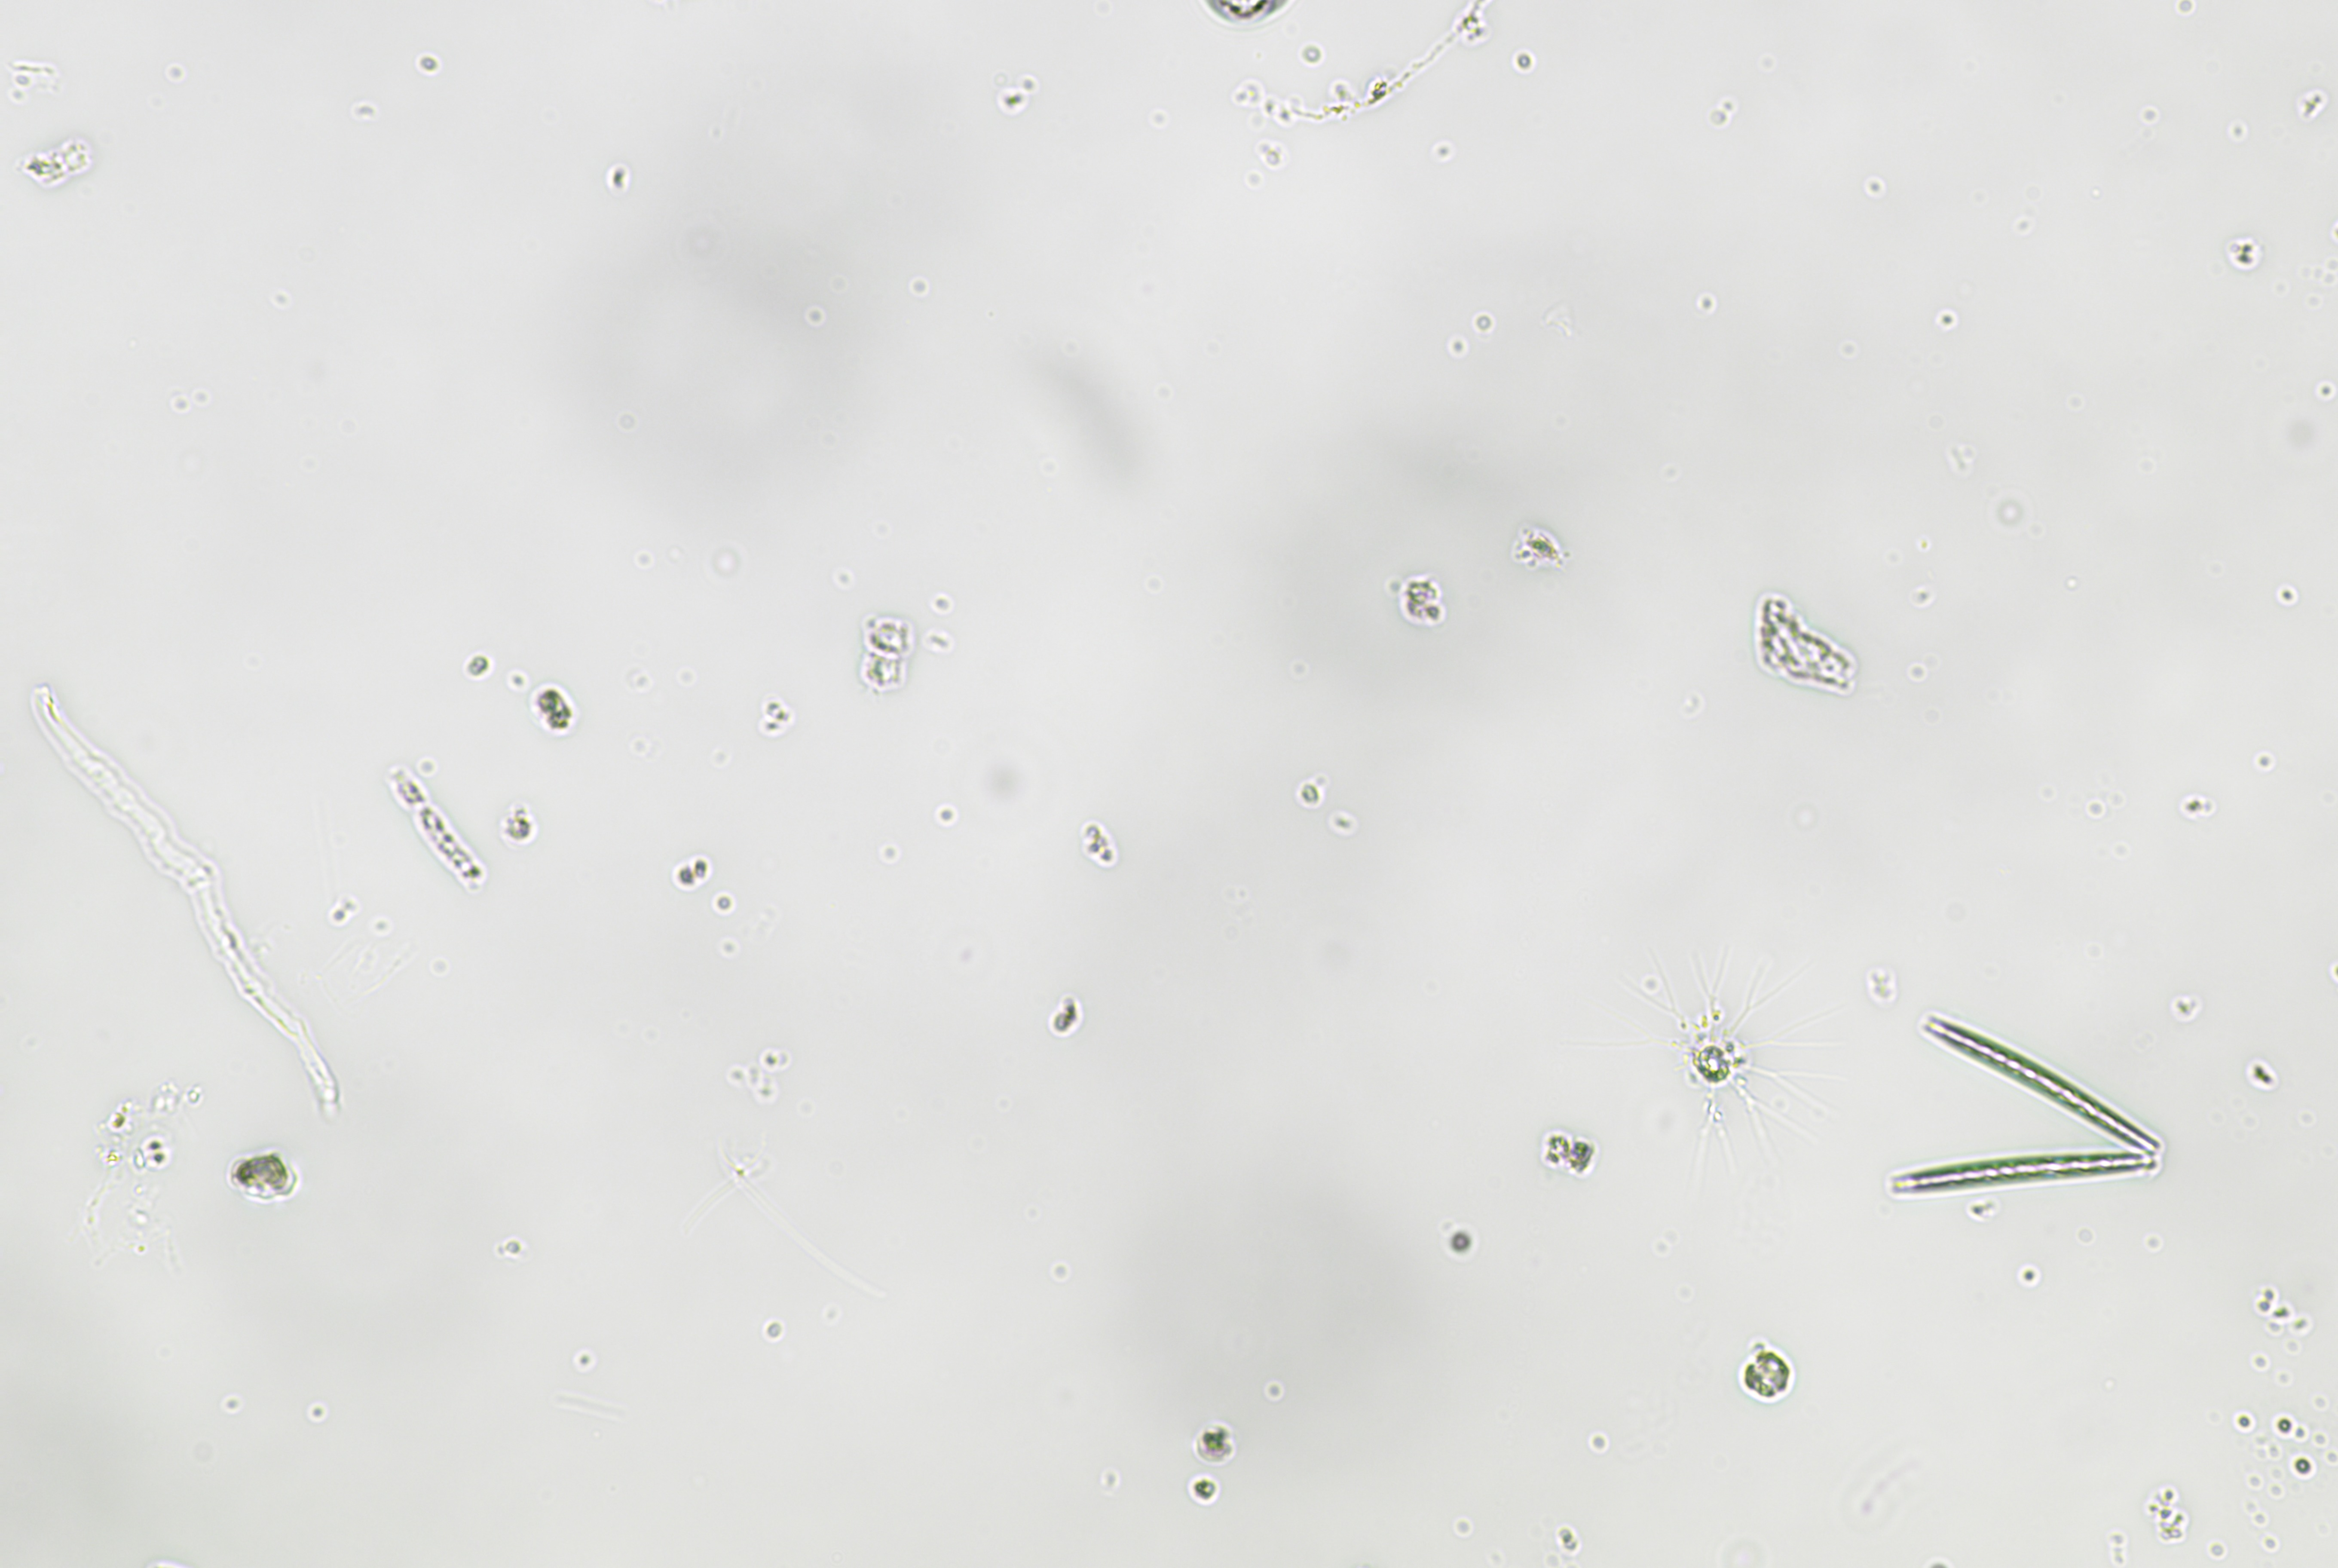thalassionema nitzschioides: (1852, 969, 2182, 1227)
